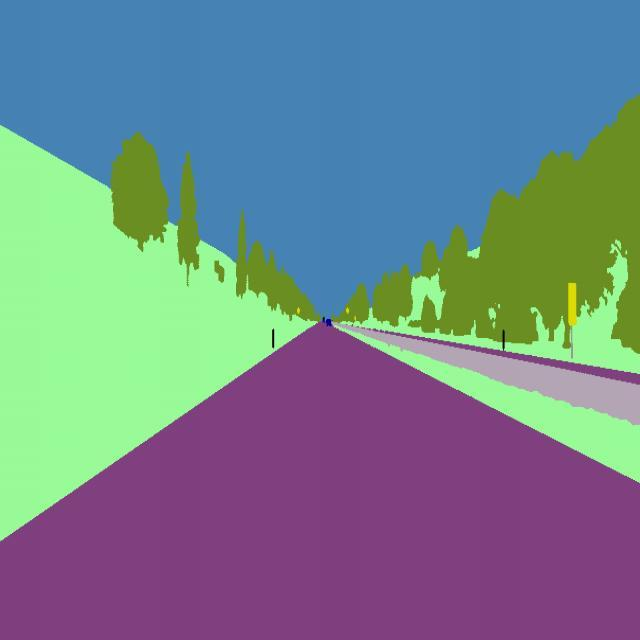safe: (325, 318, 333, 330), (318, 311, 324, 317)
